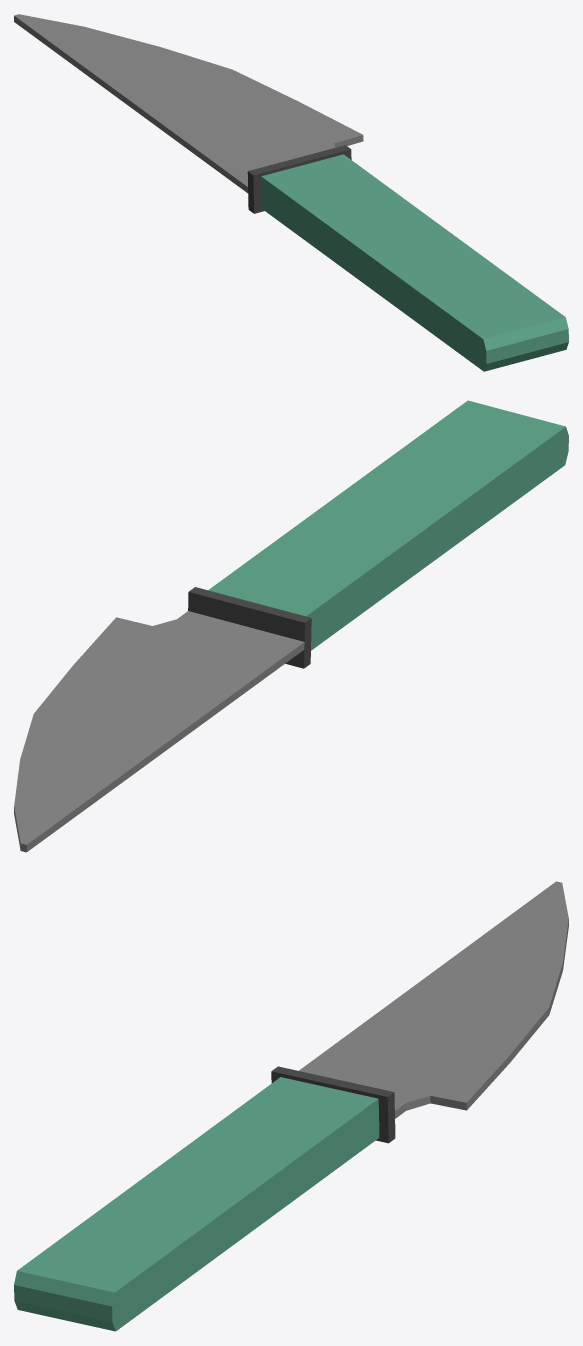
The model's file is cutlery_knife.glb.
3 views of the same model, one above another, from view 1: azimuth 30°, elevation 25°; view 2: azimuth 150°, elevation 25°; view 3: azimuth 330°, elevation 25° (orthographic). The views are drawn at different scales.
Visible parts, largest first — view 1: Cutlery_Knife_Big_Green; view 2: Cutlery_Knife_Big_Green; view 3: Cutlery_Knife_Big_Green.
Part boxes in pixels (x1,y1,x2,y2): Cutlery_Knife_Big_Green: [14, 14, 568, 371]; Cutlery_Knife_Big_Green: [14, 400, 568, 852]; Cutlery_Knife_Big_Green: [14, 881, 568, 1331].
Size of the model in its own units: 0.1106 by 0.0316 by 0.6478.
